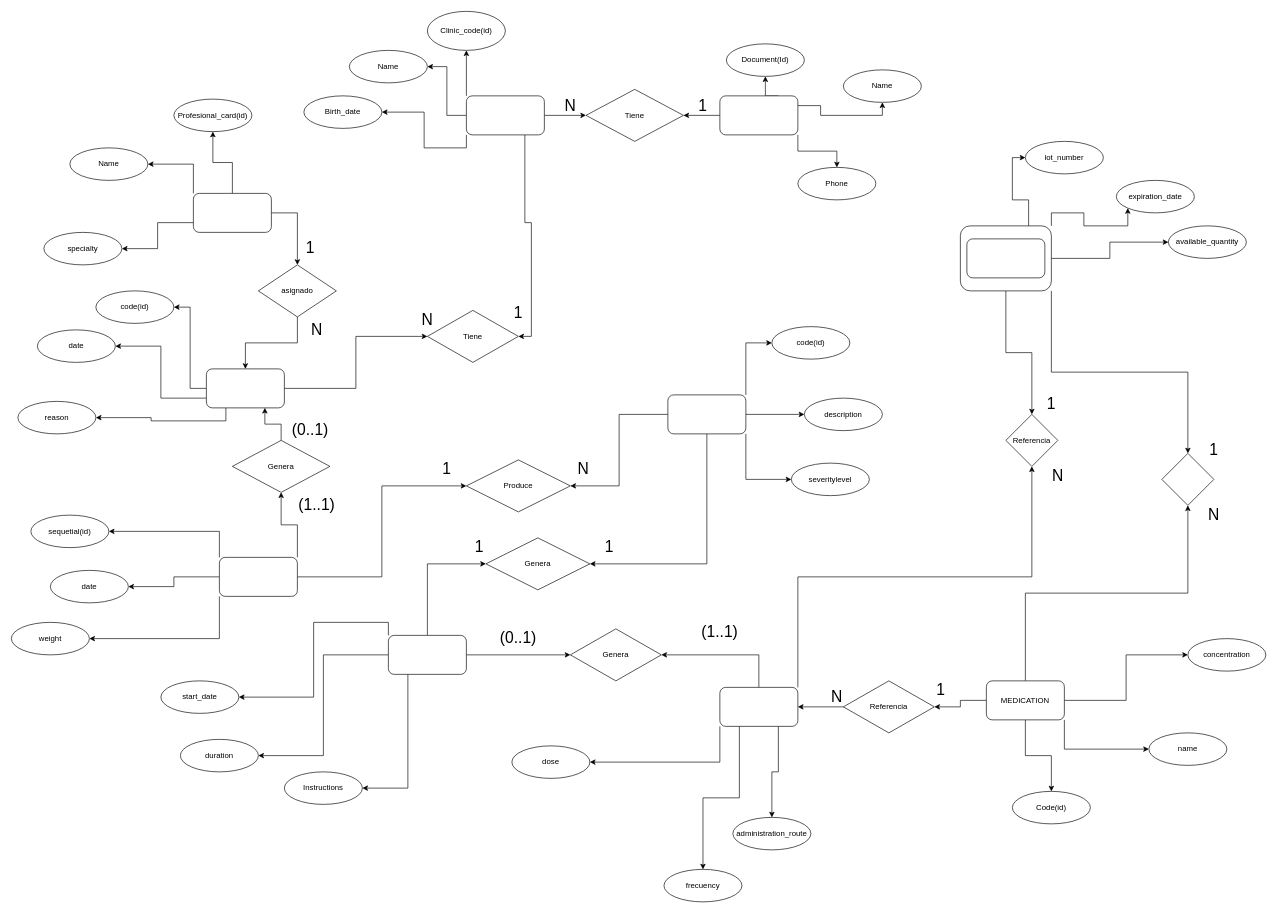
Image size: 1277x913. Some labels were removed from this diagram. The shapes that lost their labels are listed below. From the top down, each one's centre as x and y in pixels, then its label:
At pixel 505 115: "MASCOTAS".
At pixel 758 115: "OWNER".
At pixel 232 212: "VETERINARIAN".
At pixel 1005 258: "LOT".
At pixel 245 388: "APPOINTMENT".
At pixel 706 414: "DIAGNOSIS".
At pixel 1187 479: "Usa".
At pixel 258 576: "CONSULTATION".
At pixel 427 654: "TREATMENT".
At pixel 758 706: "PRESCRIPTION".
